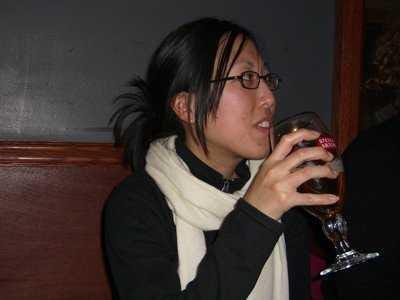Drunk: (212, 35, 279, 156)
